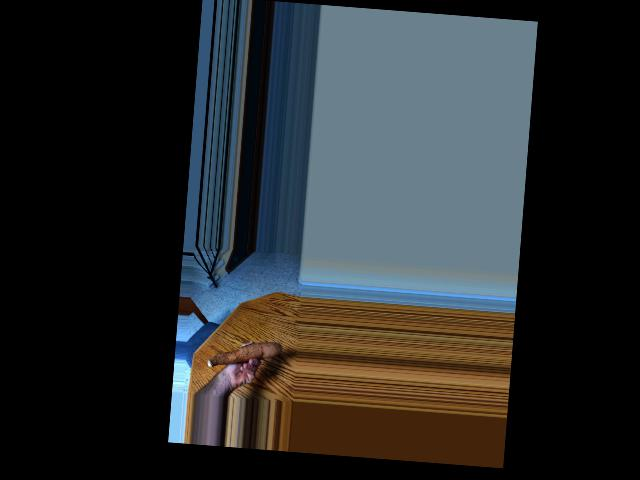sweet_potato: (207, 333, 279, 379)
